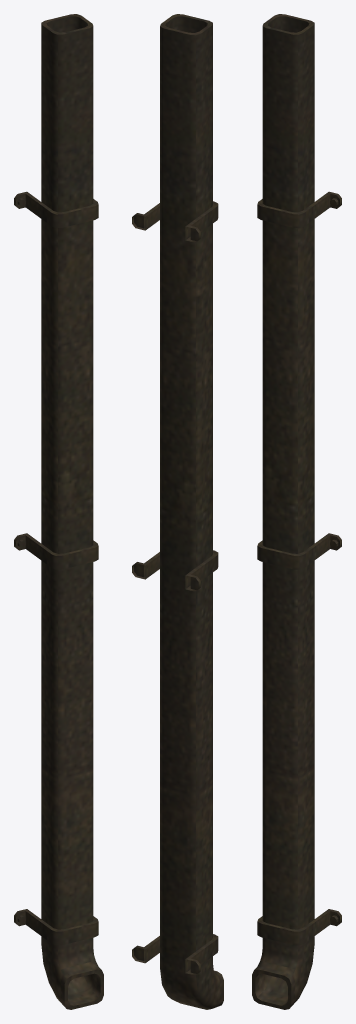
File: rainwater_downpipe_hl_1_end.obj
3 views of the same model, side by side, from view 1: azimuth 30°, elevation 25°; view 2: azimuth 150°, elevation 25°; view 3: azimuth 330°, elevation 25° (orthographic). The views are drawn at different scales.
Parts seen in each view (by area): view 1: rainwater_downpipe_hl_1_end; view 2: rainwater_downpipe_hl_1_end; view 3: rainwater_downpipe_hl_1_end.
Boxes of the visible parts, left/top/right/bottom form: rainwater_downpipe_hl_1_end: left=14, top=14, right=103, bottom=1009; rainwater_downpipe_hl_1_end: left=132, top=14, right=223, bottom=1009; rainwater_downpipe_hl_1_end: left=252, top=14, right=341, bottom=1009.
Bounding box in the file's own units: 0.2 × 2.84 × 0.2.
